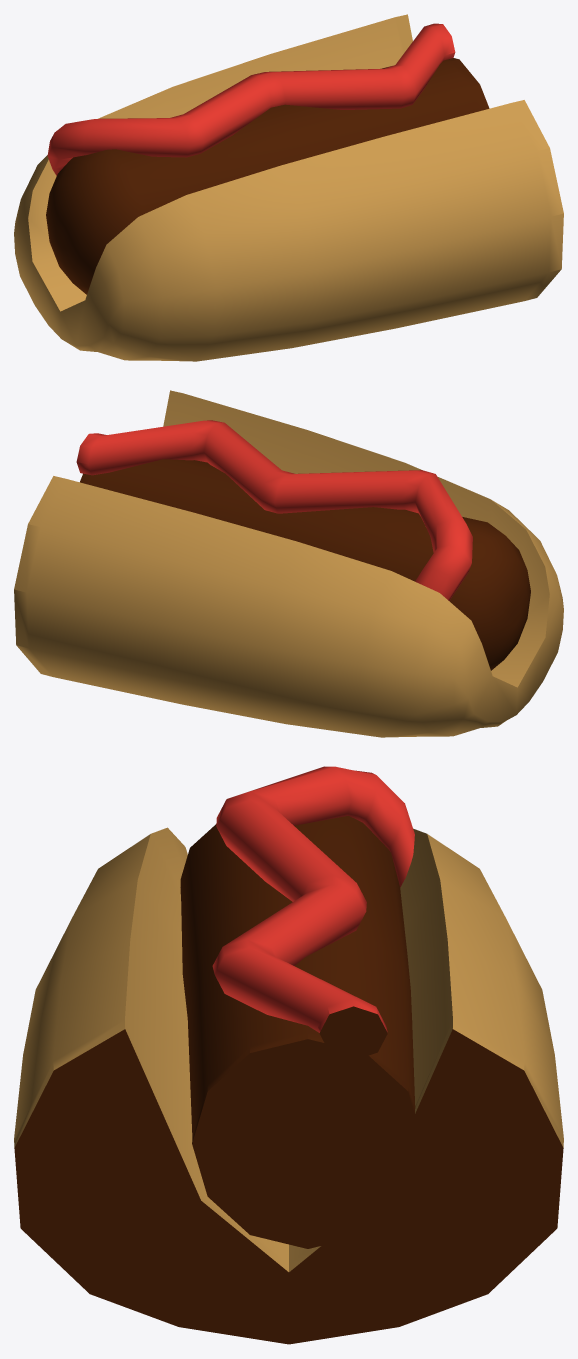
The model's file is hotdog_right.fbx.
The picture shows the model from 3 angles, top to bottom: view 1: azimuth 30°, elevation 25°; view 2: azimuth 150°, elevation 25°; view 3: azimuth 270°, elevation 25°; orthographic projection. The views are drawn at different scales.
Visible parts, largest first — view 1: Hotdog; view 2: Hotdog; view 3: Hotdog.
Part boxes in pixels (x1,y1,x2,y2): Hotdog: (14, 14, 563, 361); Hotdog: (14, 390, 563, 737); Hotdog: (14, 766, 563, 1344).
Size of the model in its own units: 25.23 by 14.65 by 21.02.
